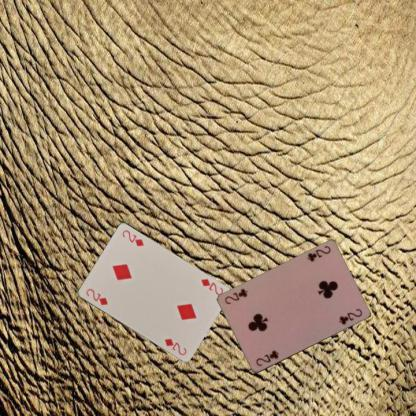2c: (304, 243, 332, 265), (253, 348, 280, 367)
2d: (83, 286, 109, 307), (198, 276, 224, 297)
